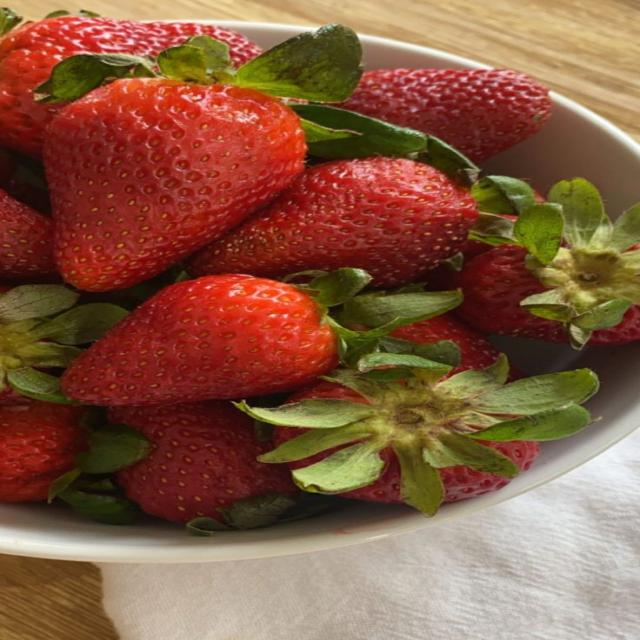strawberry: (39, 25, 360, 290), (239, 354, 598, 515), (44, 79, 306, 290), (189, 157, 477, 286), (0, 16, 261, 155), (62, 275, 336, 405), (456, 179, 639, 347), (110, 402, 297, 522), (340, 69, 552, 162), (0, 285, 126, 402), (427, 177, 545, 290), (454, 246, 567, 342), (0, 398, 86, 502), (391, 314, 499, 373), (0, 190, 55, 281), (340, 449, 404, 503), (0, 149, 17, 186)
